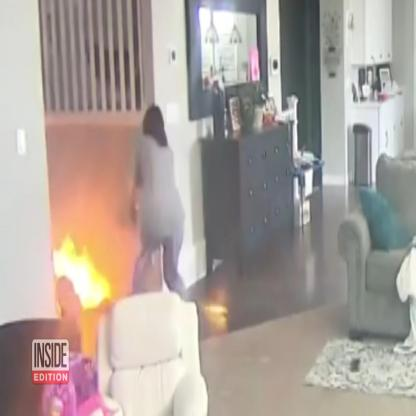fire: (52, 234, 110, 308), (204, 304, 227, 314)
